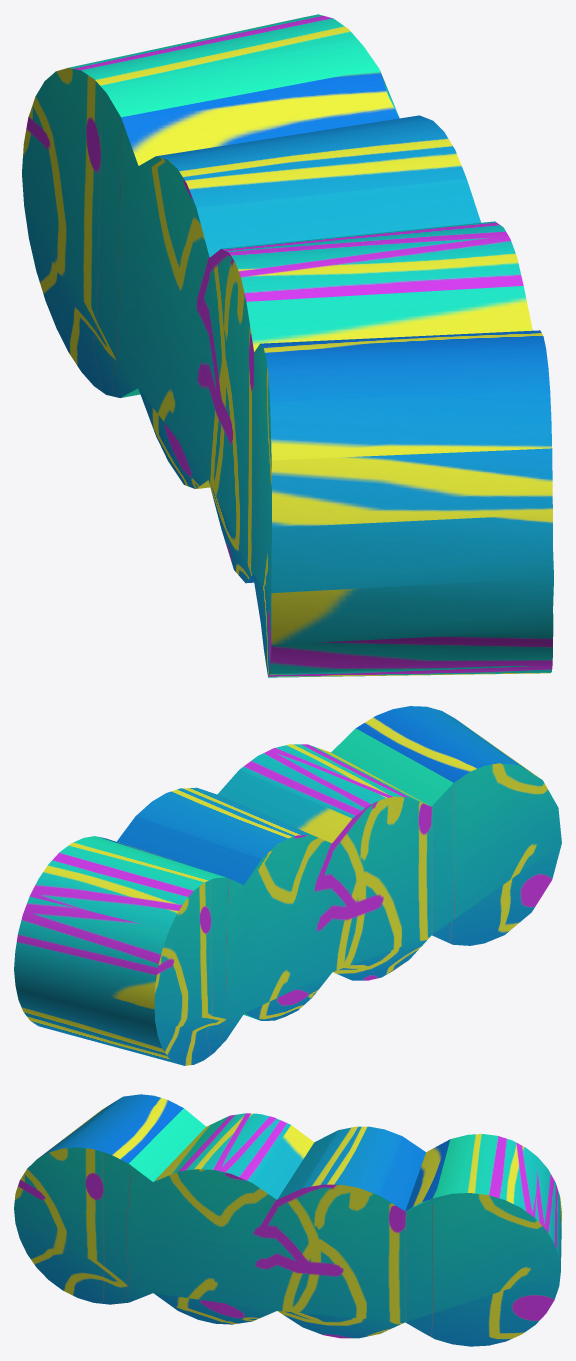
Rendered from ProjectName.obj.
3 views of the same model, one above another, from view 1: azimuth 30°, elevation 25°; view 2: azimuth 150°, elevation 25°; view 3: azimuth 270°, elevation 25° (orthographic). The views are drawn at different scales.
Visible parts, largest first — view 1: 000_Four_joined_circles; view 2: 000_Four_joined_circles; view 3: 000_Four_joined_circles.
Boxes of the visible parts, <box> form: 000_Four_joined_circles: <box>22,14,553,677</box>; 000_Four_joined_circles: <box>14,706,561,1065</box>; 000_Four_joined_circles: <box>14,1094,561,1346</box>.
Bounding box in the file's own units: 101 × 63.06 × 204.
Materials: 1 (1 with a texture image).
